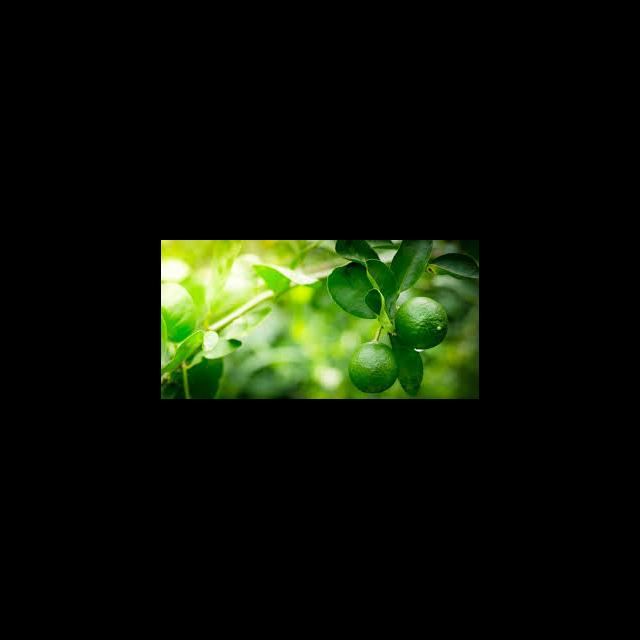lime: (394, 298, 449, 352), (348, 342, 399, 394)
